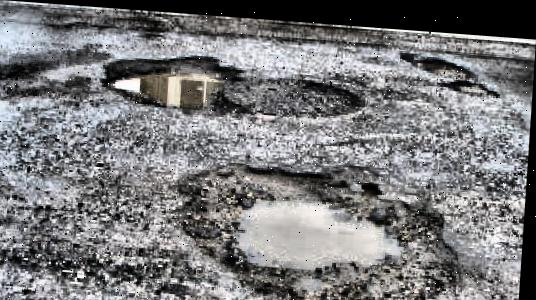pothole: (173, 151, 468, 300), (98, 44, 257, 113), (400, 43, 468, 72), (442, 71, 501, 91)
